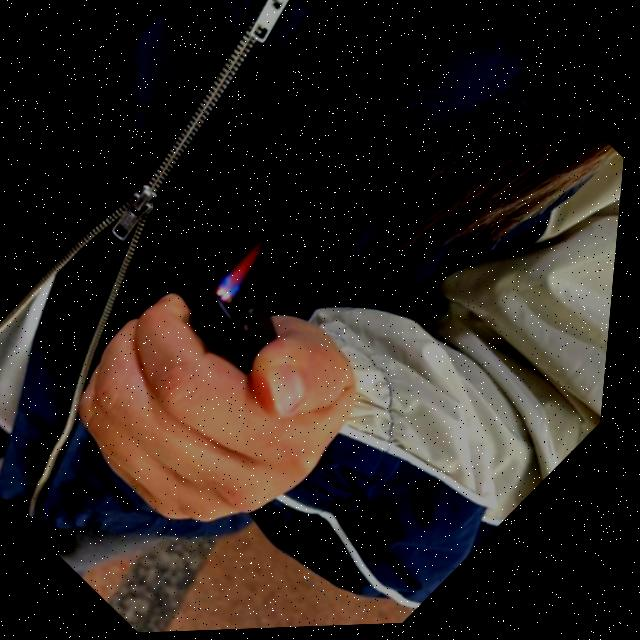Fire: (209, 217, 300, 308)
